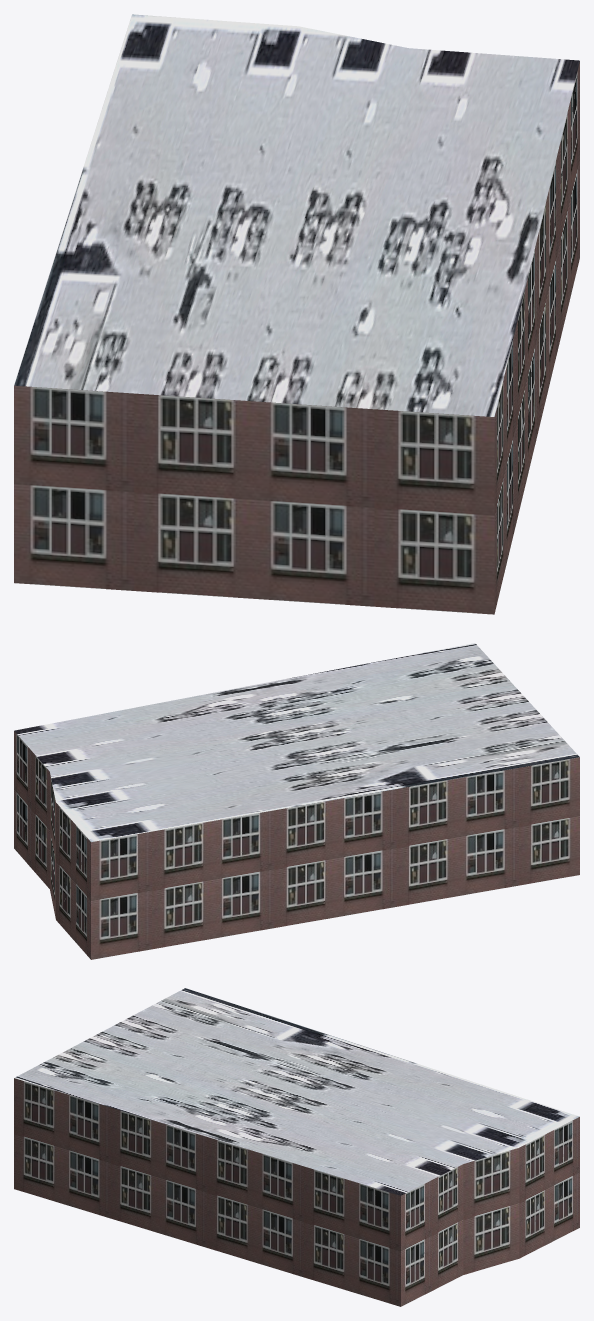
Rendered from ResTex__4692.fbx.
The picture shows the model from 3 angles, top to bottom: view 1: azimuth 30°, elevation 25°; view 2: azimuth 150°, elevation 25°; view 3: azimuth 270°, elevation 25°; orthographic projection. The views are drawn at different scales.
Parts seen in each view (by area): view 1: CityEngineMaterial_8_m, CityEngineMaterial_12_m; view 2: CityEngineMaterial_12_m, CityEngineMaterial_8_m; view 3: CityEngineMaterial_12_m, CityEngineMaterial_8_m.
Part boxes in pixels (bbox=[...]): CityEngineMaterial_8_m: bbox=[14, 14, 579, 416]; CityEngineMaterial_12_m: bbox=[14, 61, 579, 614]; CityEngineMaterial_12_m: bbox=[14, 731, 579, 959]; CityEngineMaterial_8_m: bbox=[14, 643, 579, 841]; CityEngineMaterial_12_m: bbox=[14, 1078, 579, 1306]; CityEngineMaterial_8_m: bbox=[14, 988, 579, 1195].
Bounding box in the file's own units: 24.09 × 6 × 27.72.
Materials: 2 (2 with a texture image).
